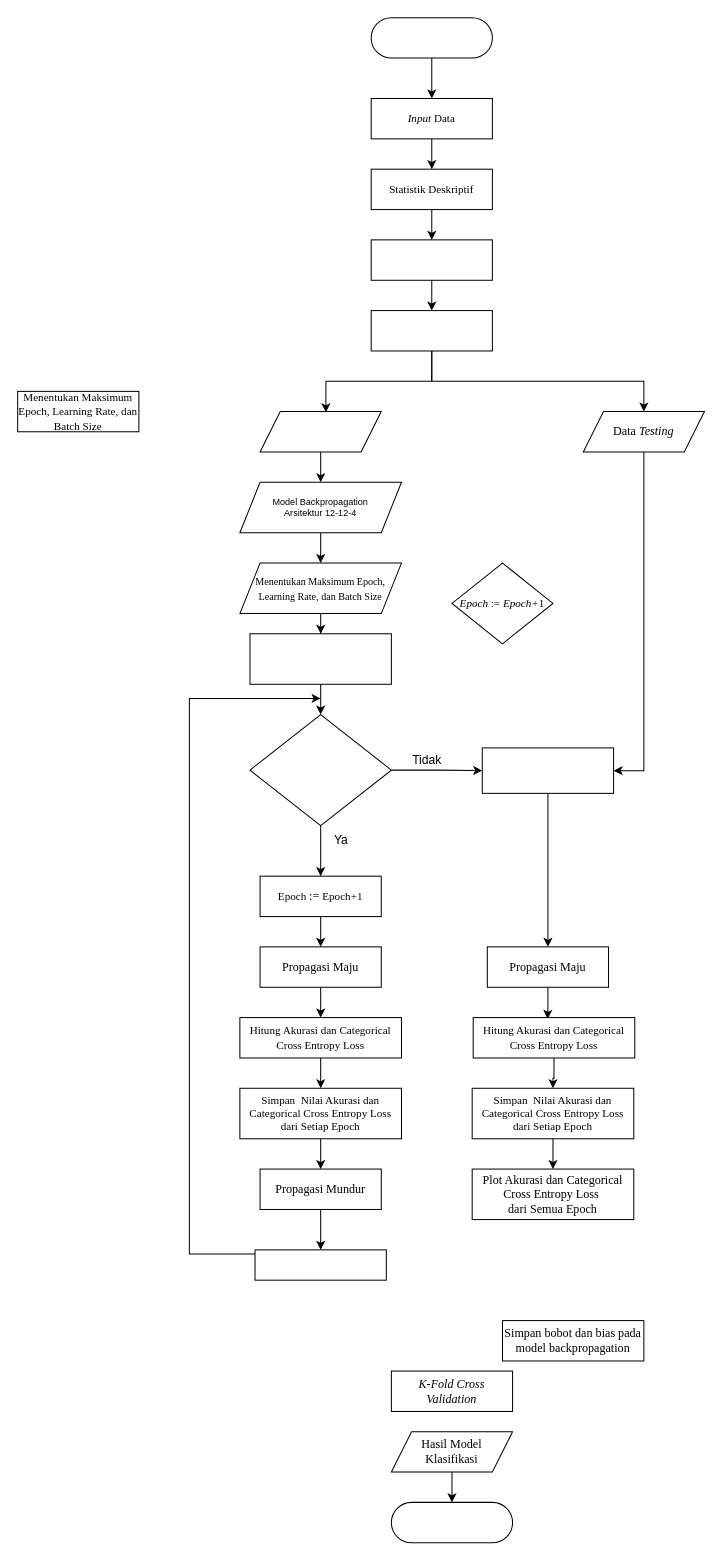
Some shapes in this 722 by 1560 pixel diagram are drawn without their labels. The box of each missing label's shape, as (x1, y1, x2, y2) in pixels:
Data Training: (259, 411, 381, 452)
Epoch <= Maksimum Epoch: (249, 714, 391, 826)
Inisialisasi Epoch = 0, Inisialisasi Bobot dan Bias dengan Nilai Interval [-1,1]: (249, 633, 391, 684)
Mulai: (370, 17, 492, 58)
Pembagian Data: (370, 310, 492, 351)
Preprocessing Data: (370, 239, 492, 280)
Selesai: (390, 1501, 513, 1543)
Simpan Bobot dan Bias Baru pada Model: (254, 1249, 386, 1280)
Simpan Bobot dan Bias pada Model Backpropagation Arsitektur 12-12-4: (481, 747, 614, 793)
